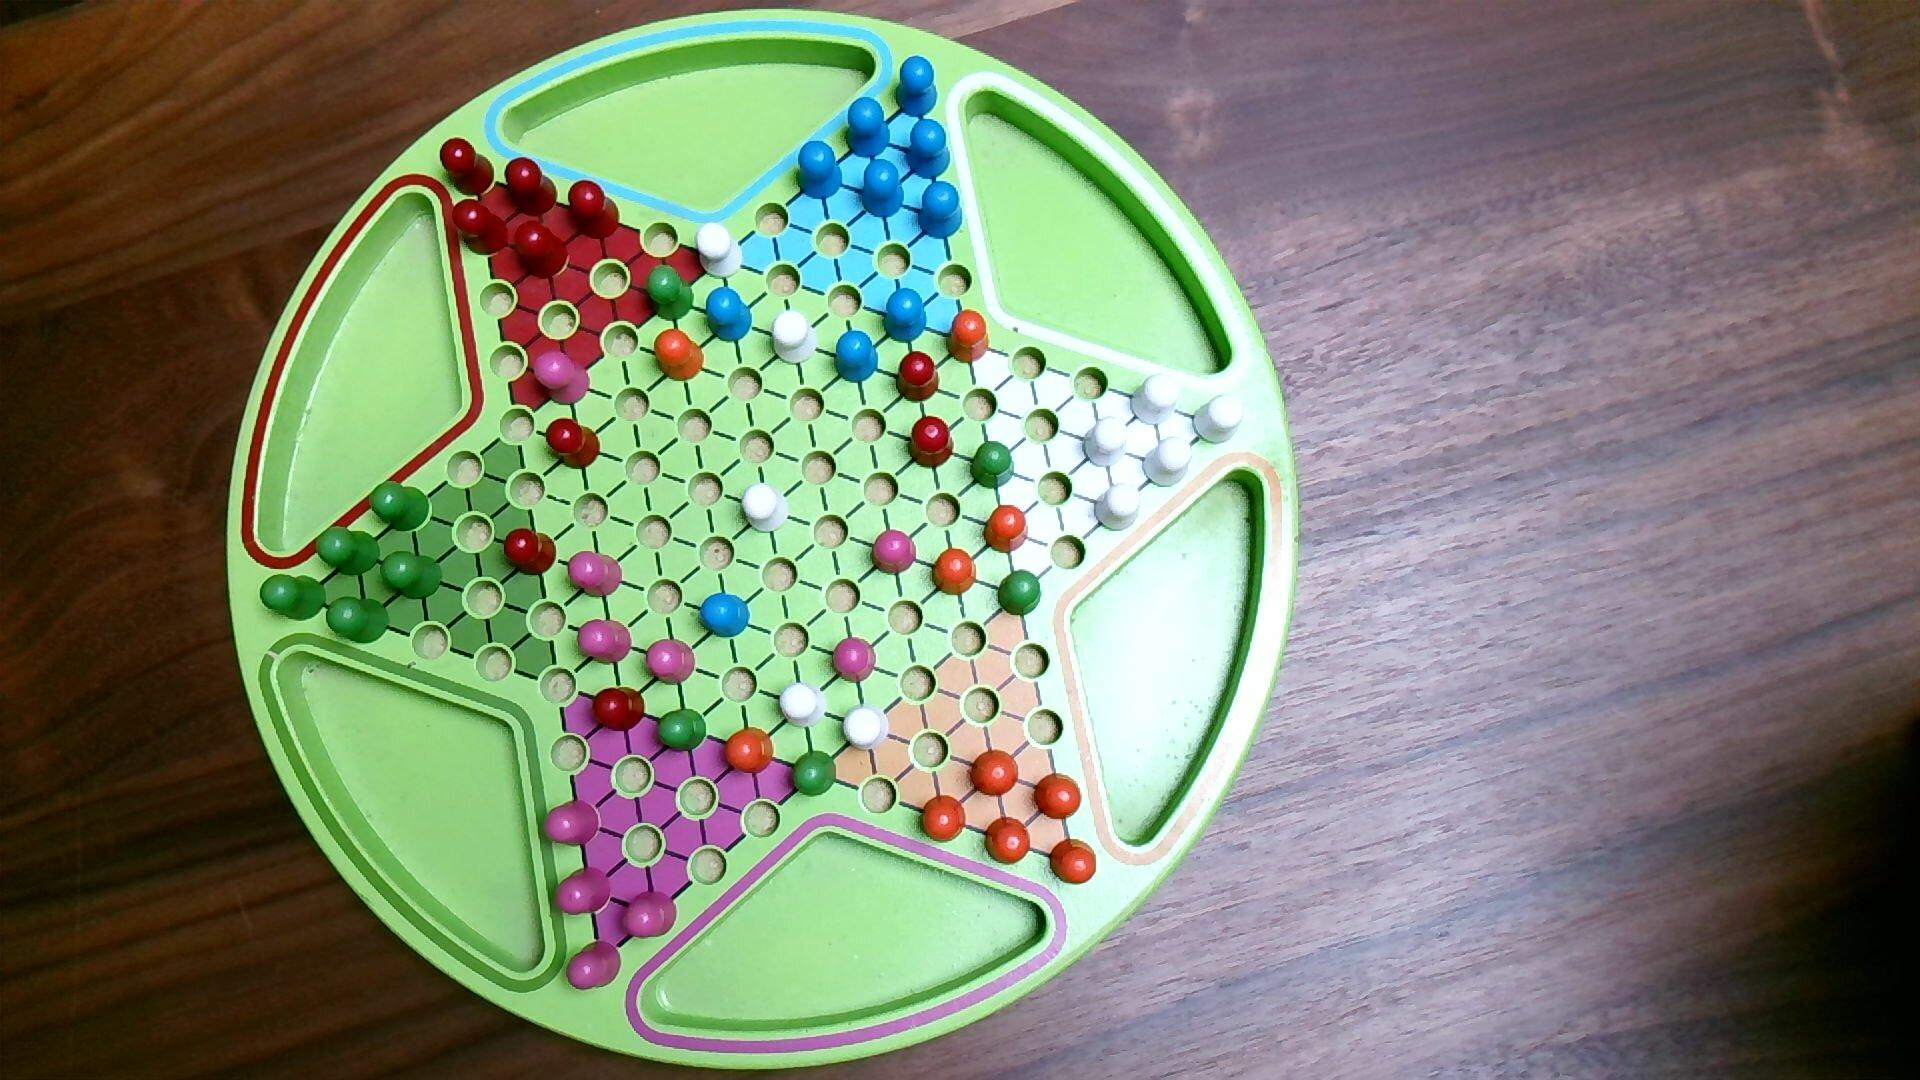B: (905, 117, 953, 182), (916, 179, 965, 243), (796, 138, 844, 202), (894, 54, 940, 119), (860, 158, 906, 222), (704, 286, 754, 344), (845, 98, 891, 160), (833, 328, 881, 386), (882, 287, 928, 345), (698, 592, 752, 640)
G: (367, 479, 433, 534), (315, 525, 382, 578), (324, 593, 392, 646), (380, 549, 444, 603), (258, 574, 328, 622), (645, 262, 696, 323), (655, 708, 709, 756), (790, 749, 839, 799), (969, 439, 1017, 491), (997, 568, 1043, 618)
O: (651, 327, 707, 384), (721, 725, 777, 777), (945, 309, 992, 367), (969, 748, 1021, 799), (982, 815, 1033, 868), (982, 502, 1031, 556), (1033, 771, 1084, 822), (919, 794, 968, 847), (1048, 837, 1098, 886), (931, 547, 978, 599)
R: (451, 196, 512, 258), (439, 137, 498, 199), (513, 219, 571, 281), (504, 156, 559, 219), (568, 178, 622, 243), (545, 417, 603, 472), (589, 684, 647, 735), (907, 415, 957, 472), (502, 527, 559, 578), (895, 349, 942, 405)
R2: (531, 349, 593, 407), (566, 939, 624, 994), (554, 865, 615, 918), (542, 796, 603, 849), (620, 889, 679, 942), (567, 549, 622, 599), (578, 618, 634, 667), (645, 638, 698, 688), (831, 636, 880, 687), (870, 527, 919, 578)
W: (695, 222, 745, 284), (1191, 393, 1247, 447), (1130, 371, 1182, 429), (771, 309, 822, 368), (1142, 436, 1195, 491), (741, 483, 793, 537), (1093, 481, 1145, 535), (1081, 414, 1130, 469), (777, 680, 829, 731), (843, 702, 891, 754)
